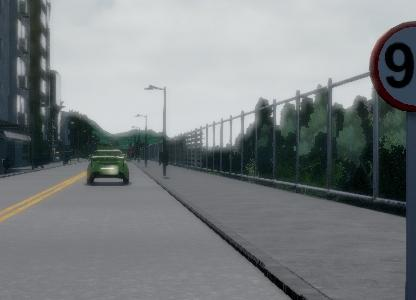Speed_90: (369, 13, 416, 115)
